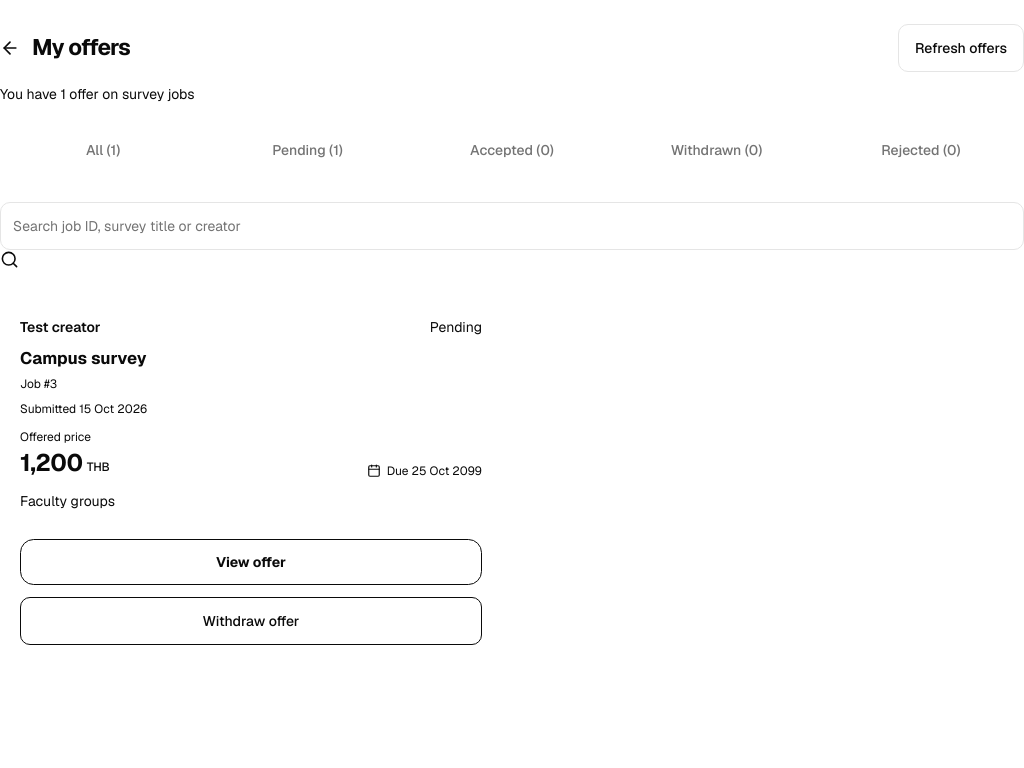
MyOffersPage › displays error alert when withdrawal fails with conflict
The width and height of the screenshot is (1024, 768).
Click the button "Withdraw offer": [251, 621] box [20,597,482,645]
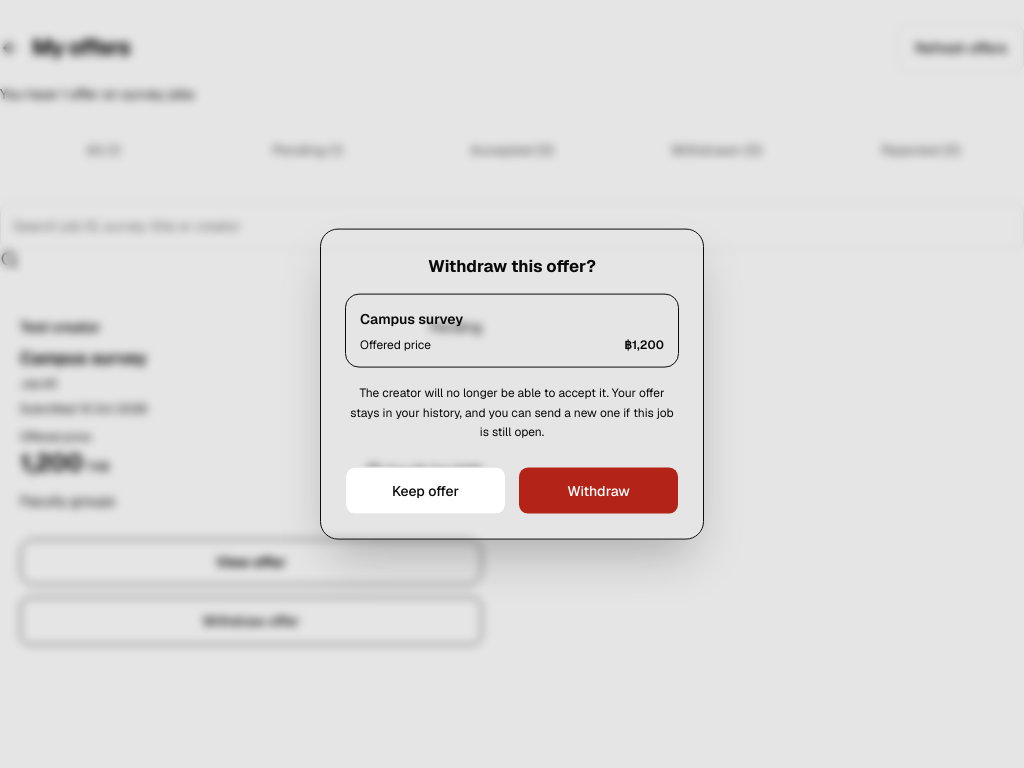
Click the button "Withdraw": [598, 490] box [518,466,679,514]
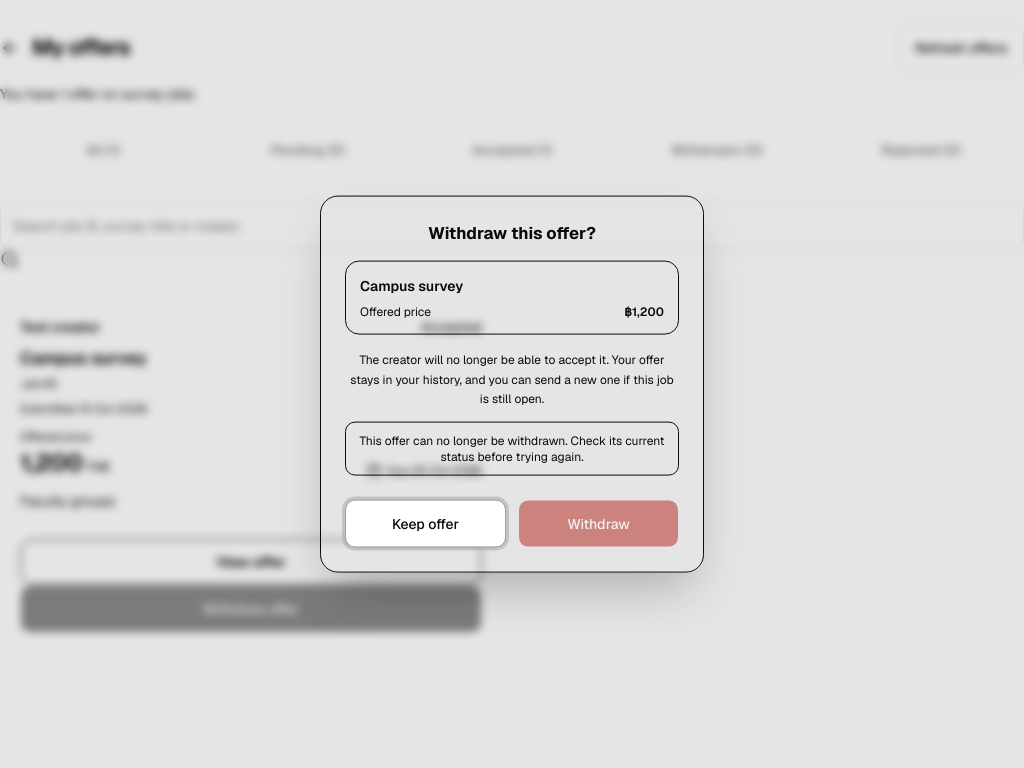
Check: the message shows "This offer can no longer be withdrawn. Check its current status before trying again.", box [360,432,664,464]
Check: the text "Accepted" is shown, box [421,317,482,337]
Check: the button "Withdraw" is disabled, box [518,499,679,547]
